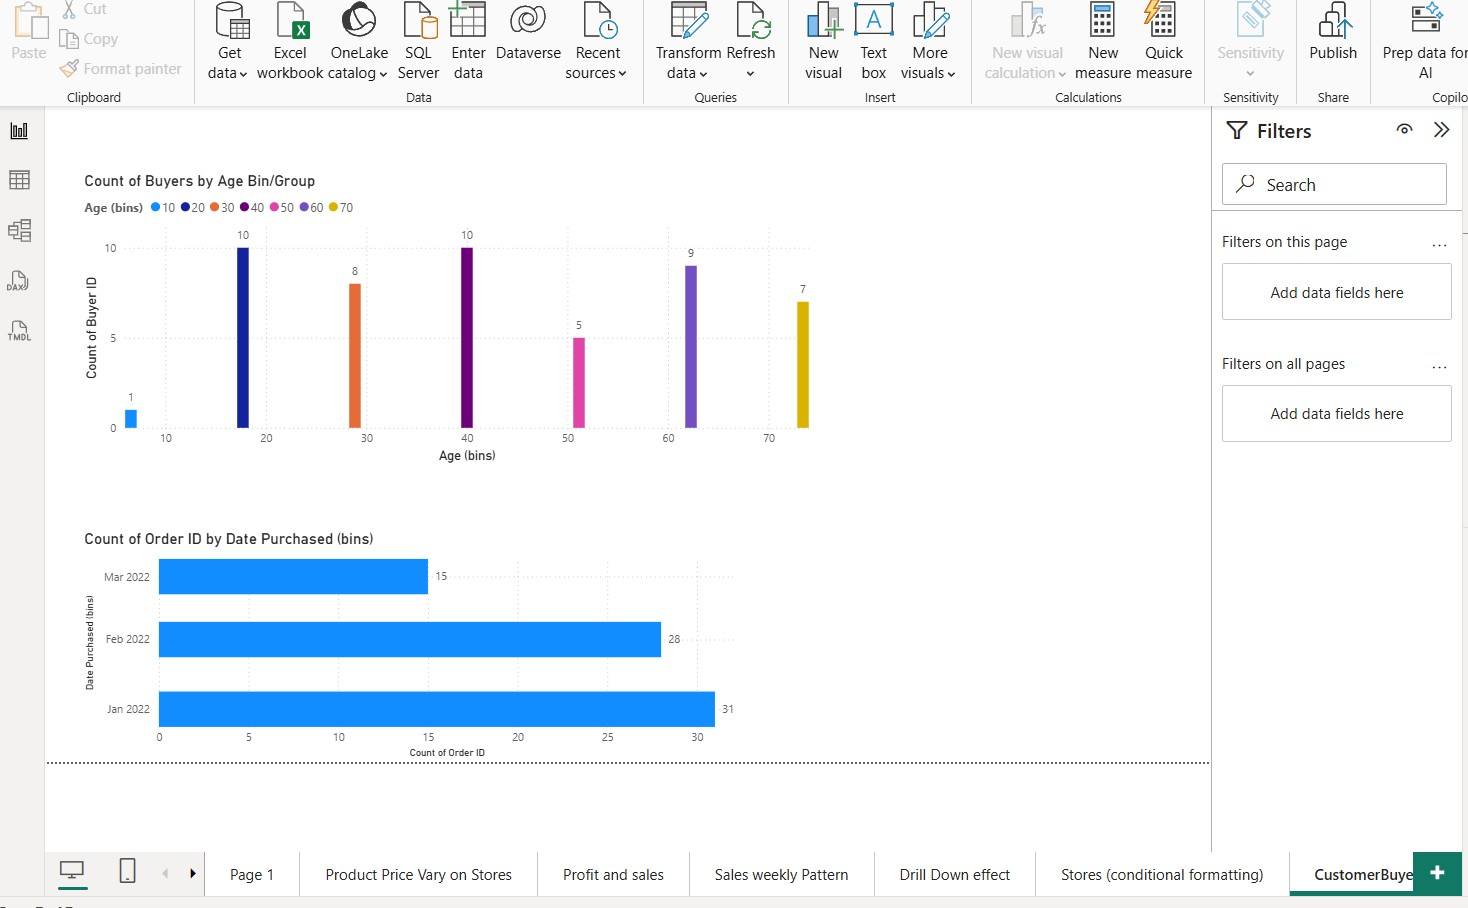

Layout of this report page (visuals, bound fields, positions):
{"tool":"powerbi","page":{"name":"CustomerBuyerInfo-BinList","canvas":[1280,720],"ordinal":5},"visuals":[{"type":"clusteredColumnChart","title":"Count of Buyers by Age Bin/Group","fields":{"Y":["CountNonNull(Customer Buyer Information.Buyer ID)"],"Category":["Customer Buyer Information.Age (bins)","Customer Buyer Information.Age"],"Series":["Customer Buyer Information.Age (bins)"]},"box":[38.8,71.7,805.2,325.7],"z":0},{"type":"clusteredBarChart","fields":{"Category":["Apocolypse Sales (2).Date Purchased (bins)"],"Y":["CountNonNull(Apocolypse Sales (2).Order ID)"]},"box":[38.8,464.6,732,255.5],"z":1000}]}

Visuals, with their boxes on the page's 1280x720 design canvas (x1, y1, x2, y2). These are canvas units, not pixel positions in the 1468x908 screenshot, which may show the page scaled, cropped or inside an application window:
"Count of Buyers by Age Bin/Group" clusteredColumnChart: 39/72/844/397
clusteredBarChart - Apocolypse Sales (2).Date Purchased (bins) x CountNonNull(Apocolypse Sales (2).Order ID): 39/465/771/720
